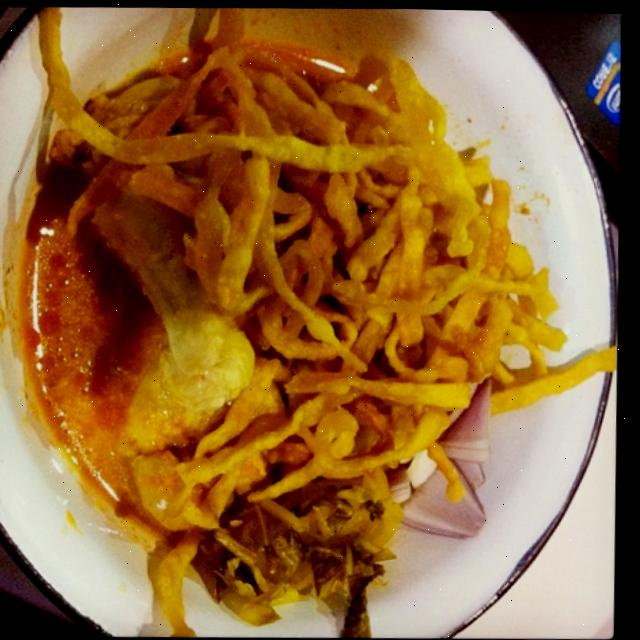面条主食: (0, 8, 606, 620)
